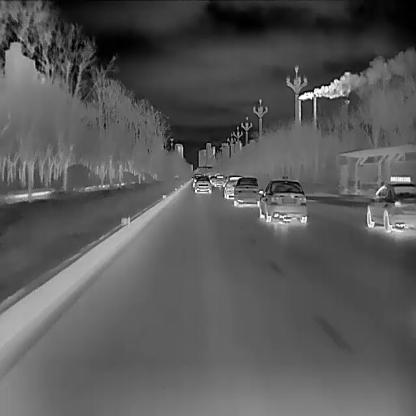car: (366, 174, 416, 234), (260, 178, 307, 223), (233, 176, 260, 206), (222, 174, 244, 198), (194, 176, 211, 194), (213, 175, 224, 187)
